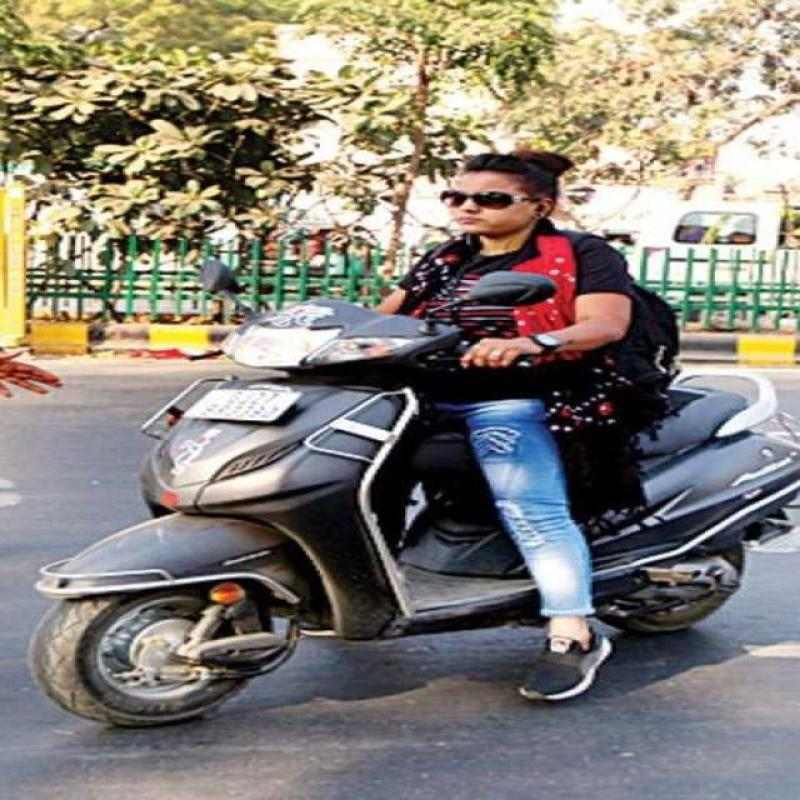nohelmet: (406, 157, 604, 238)
